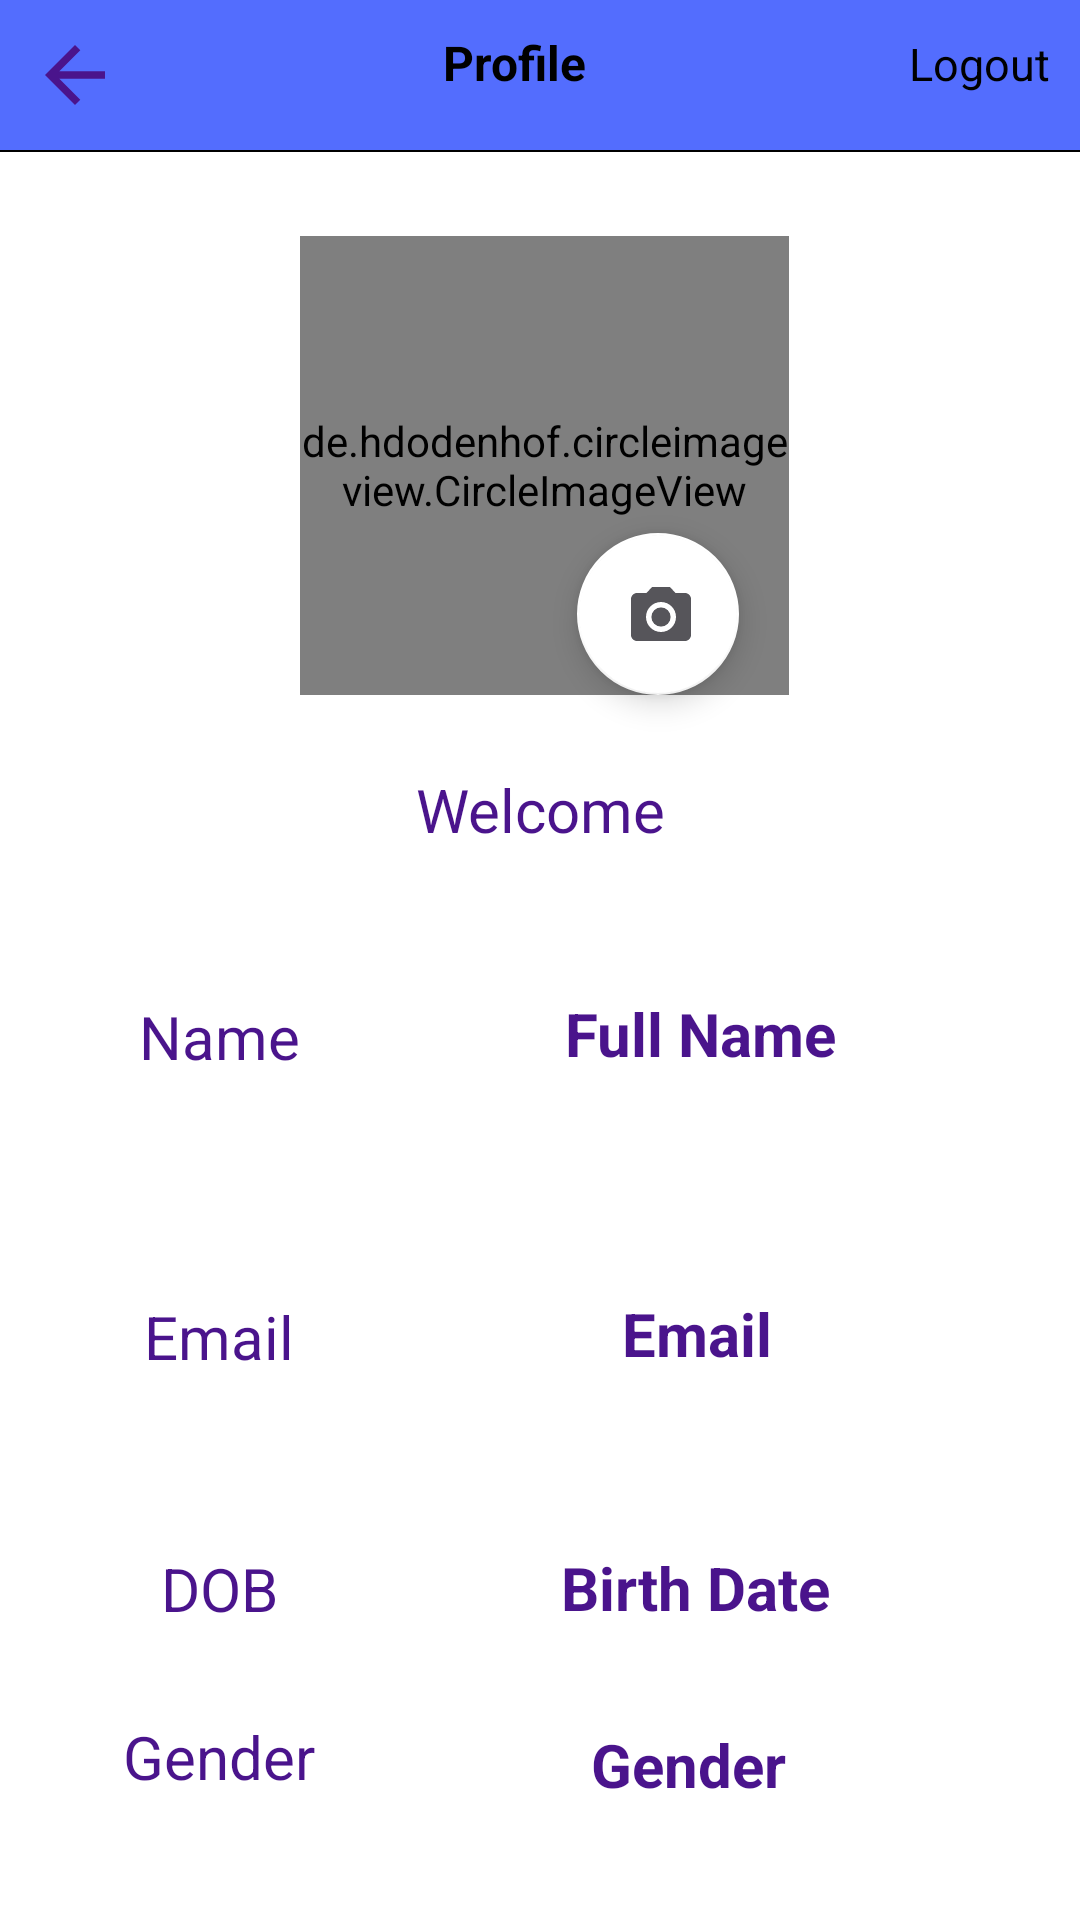

Where to tap for icons on this 1080×1920 app screen, as (x,y):
arrow back: (75,75)
camera: (658,614)
